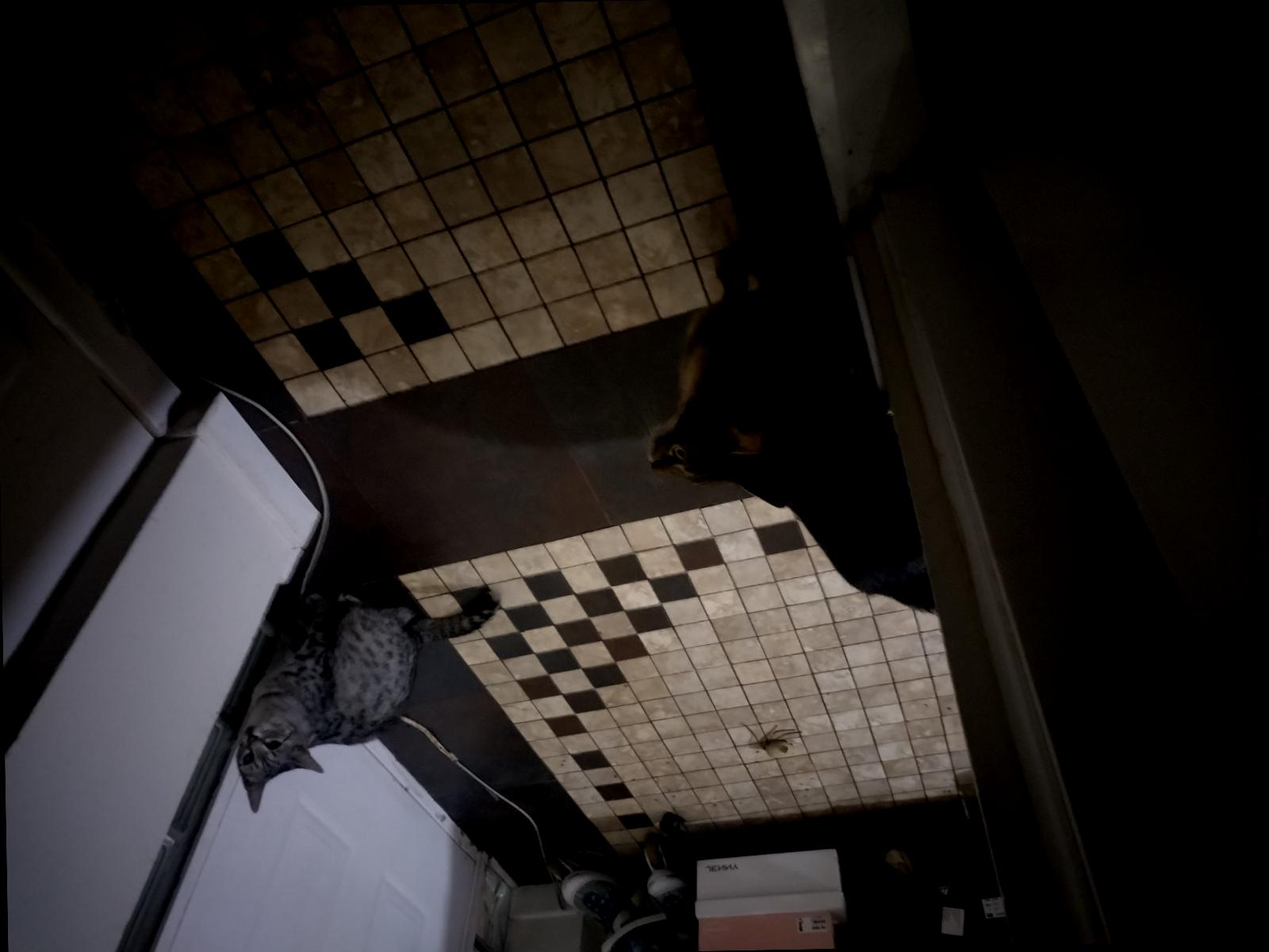macka: (642, 242, 940, 616), (229, 583, 506, 817)
